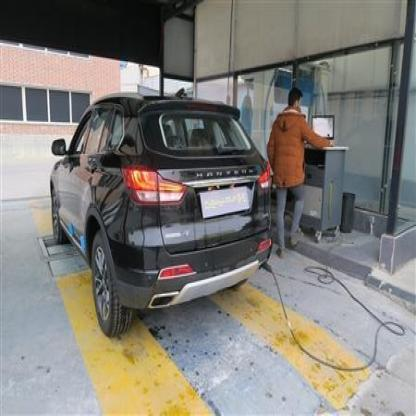Car: (52, 94, 274, 340)
